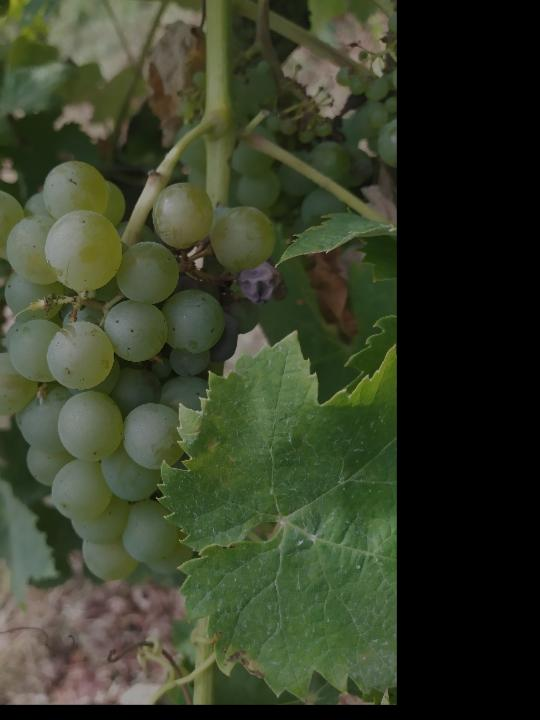grape: (0, 158, 280, 585)
